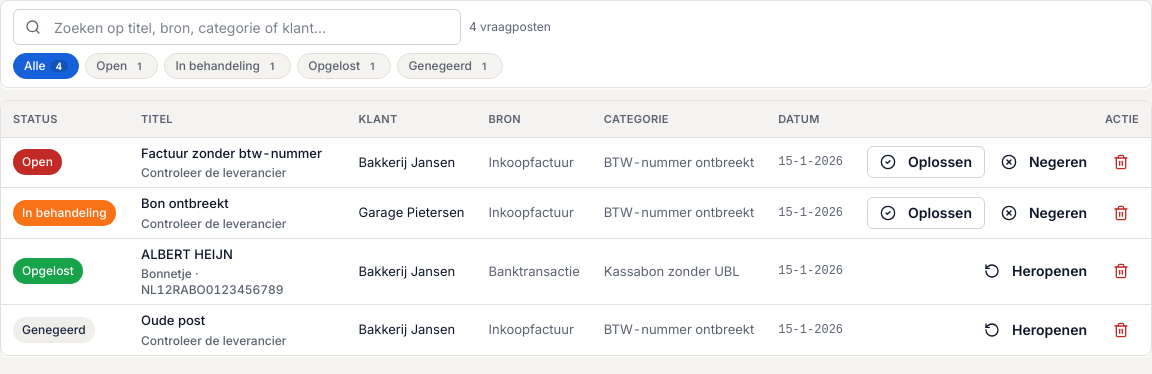
Test case: Vraagposten overzicht › filtert op status Opgelost
Click the button "Opgelost 1".
click(344, 66)  # box [297,53,391,79]
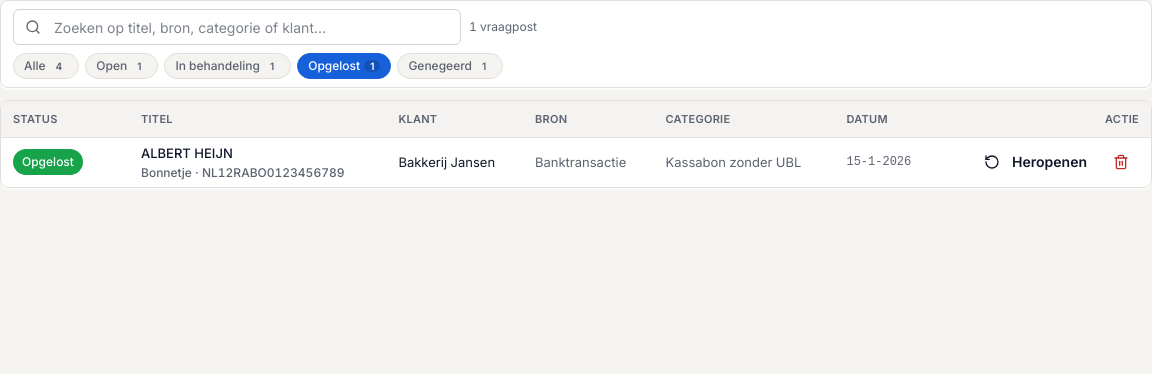
Expected: the text "ALBERT HEIJN" is shown, [141,144,233,160]
Expected: the number of rows is 2, [1,101,1151,137]; [1,137,1151,187]
